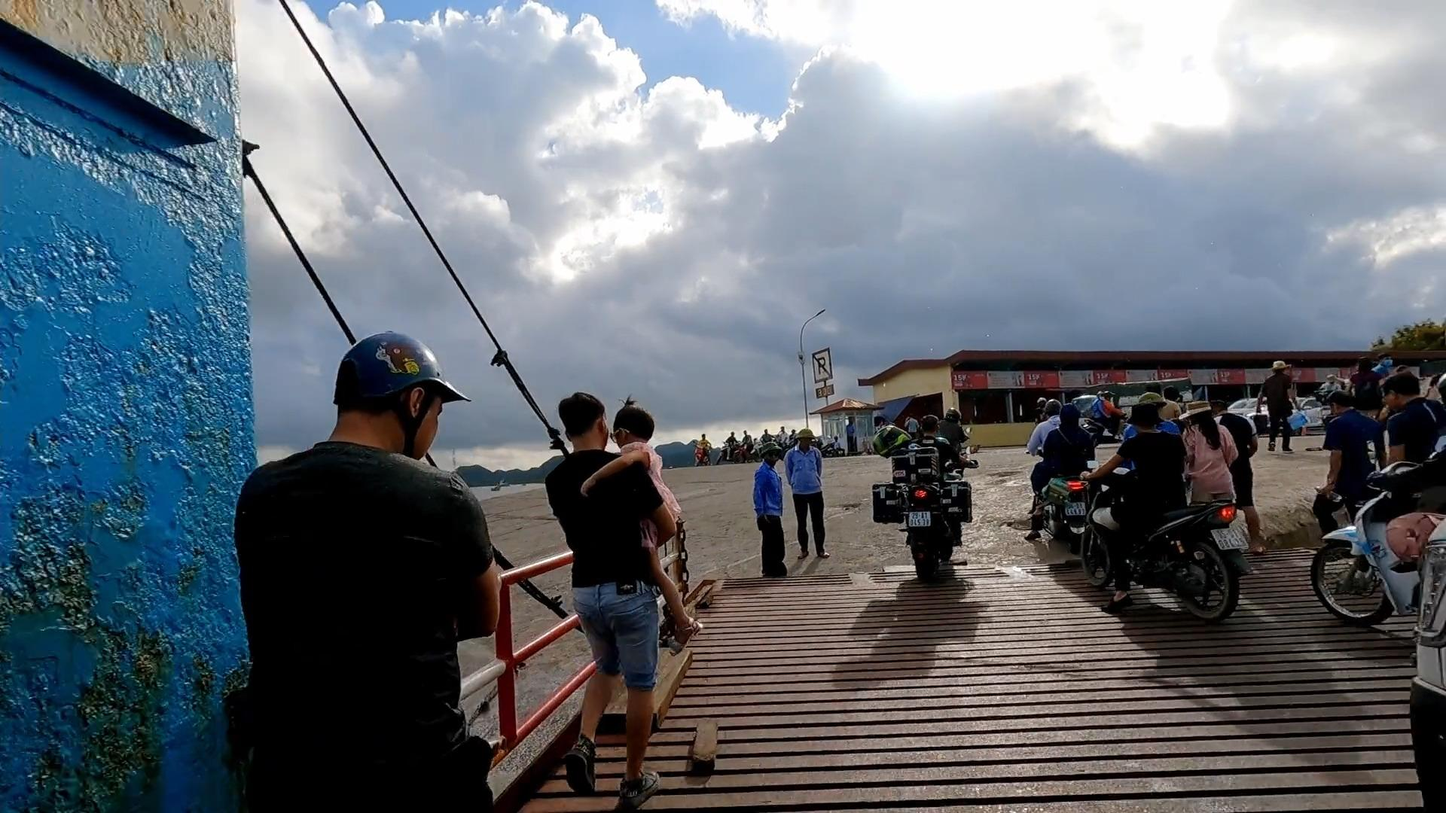driver: (1079, 402, 1255, 623), (874, 415, 982, 580), (1025, 399, 1096, 556), (1081, 390, 1129, 448)
helmet: (334, 331, 472, 462), (1045, 399, 1063, 420), (944, 407, 962, 424)
no-helmet: (559, 392, 609, 451), (609, 393, 654, 448), (1382, 370, 1420, 414), (1126, 402, 1164, 432), (1327, 389, 1354, 415), (1060, 403, 1079, 428), (920, 415, 939, 438)
